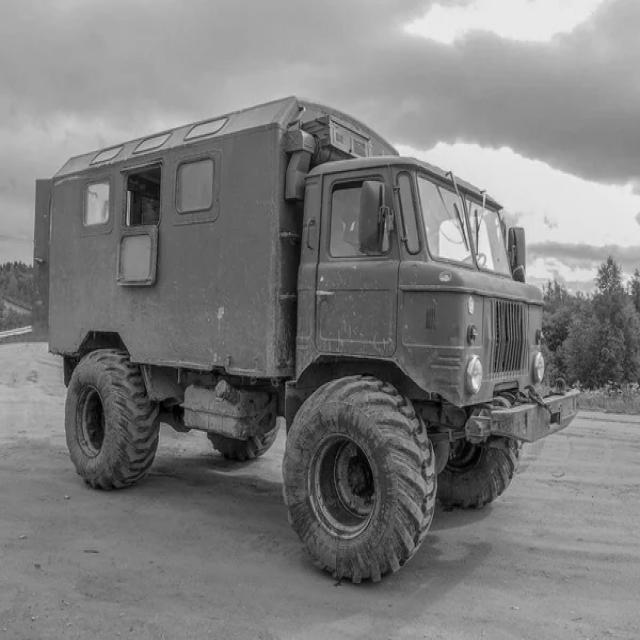Truck: (31, 97, 580, 582)
